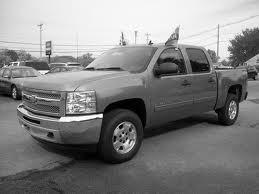car: (12, 40, 251, 167)
